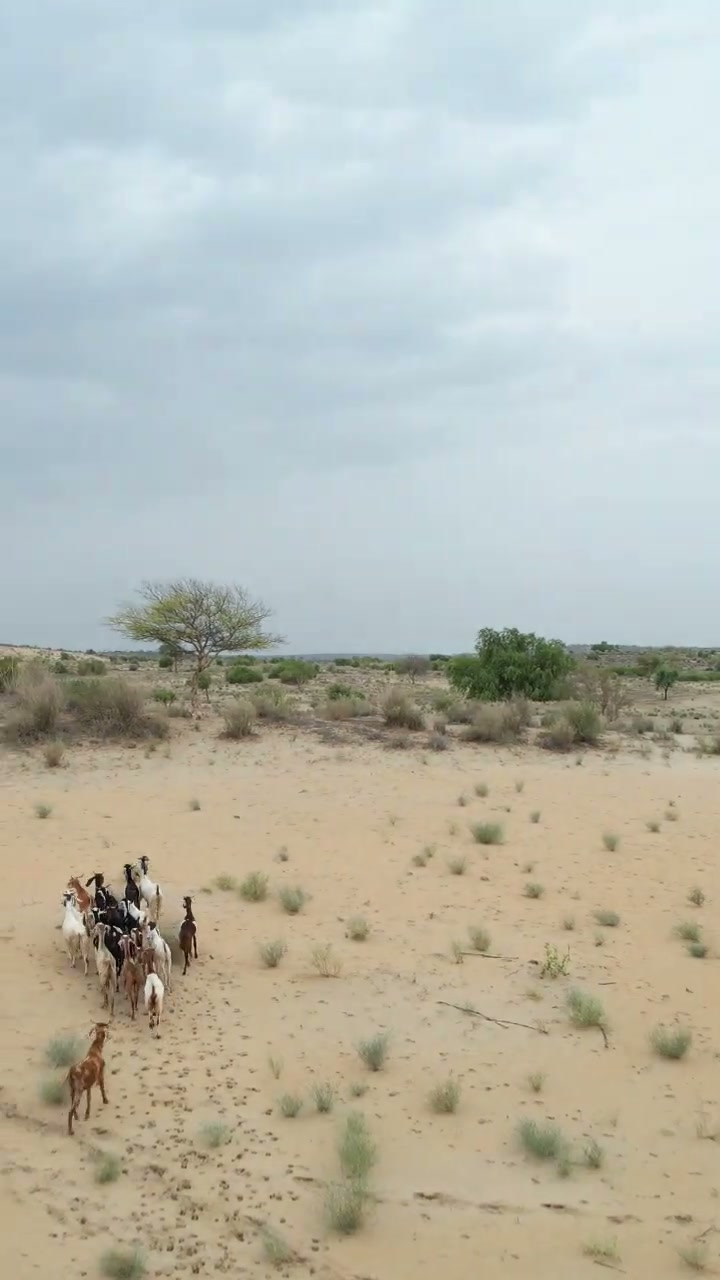animal_foot_print: (109, 977, 300, 1279)
